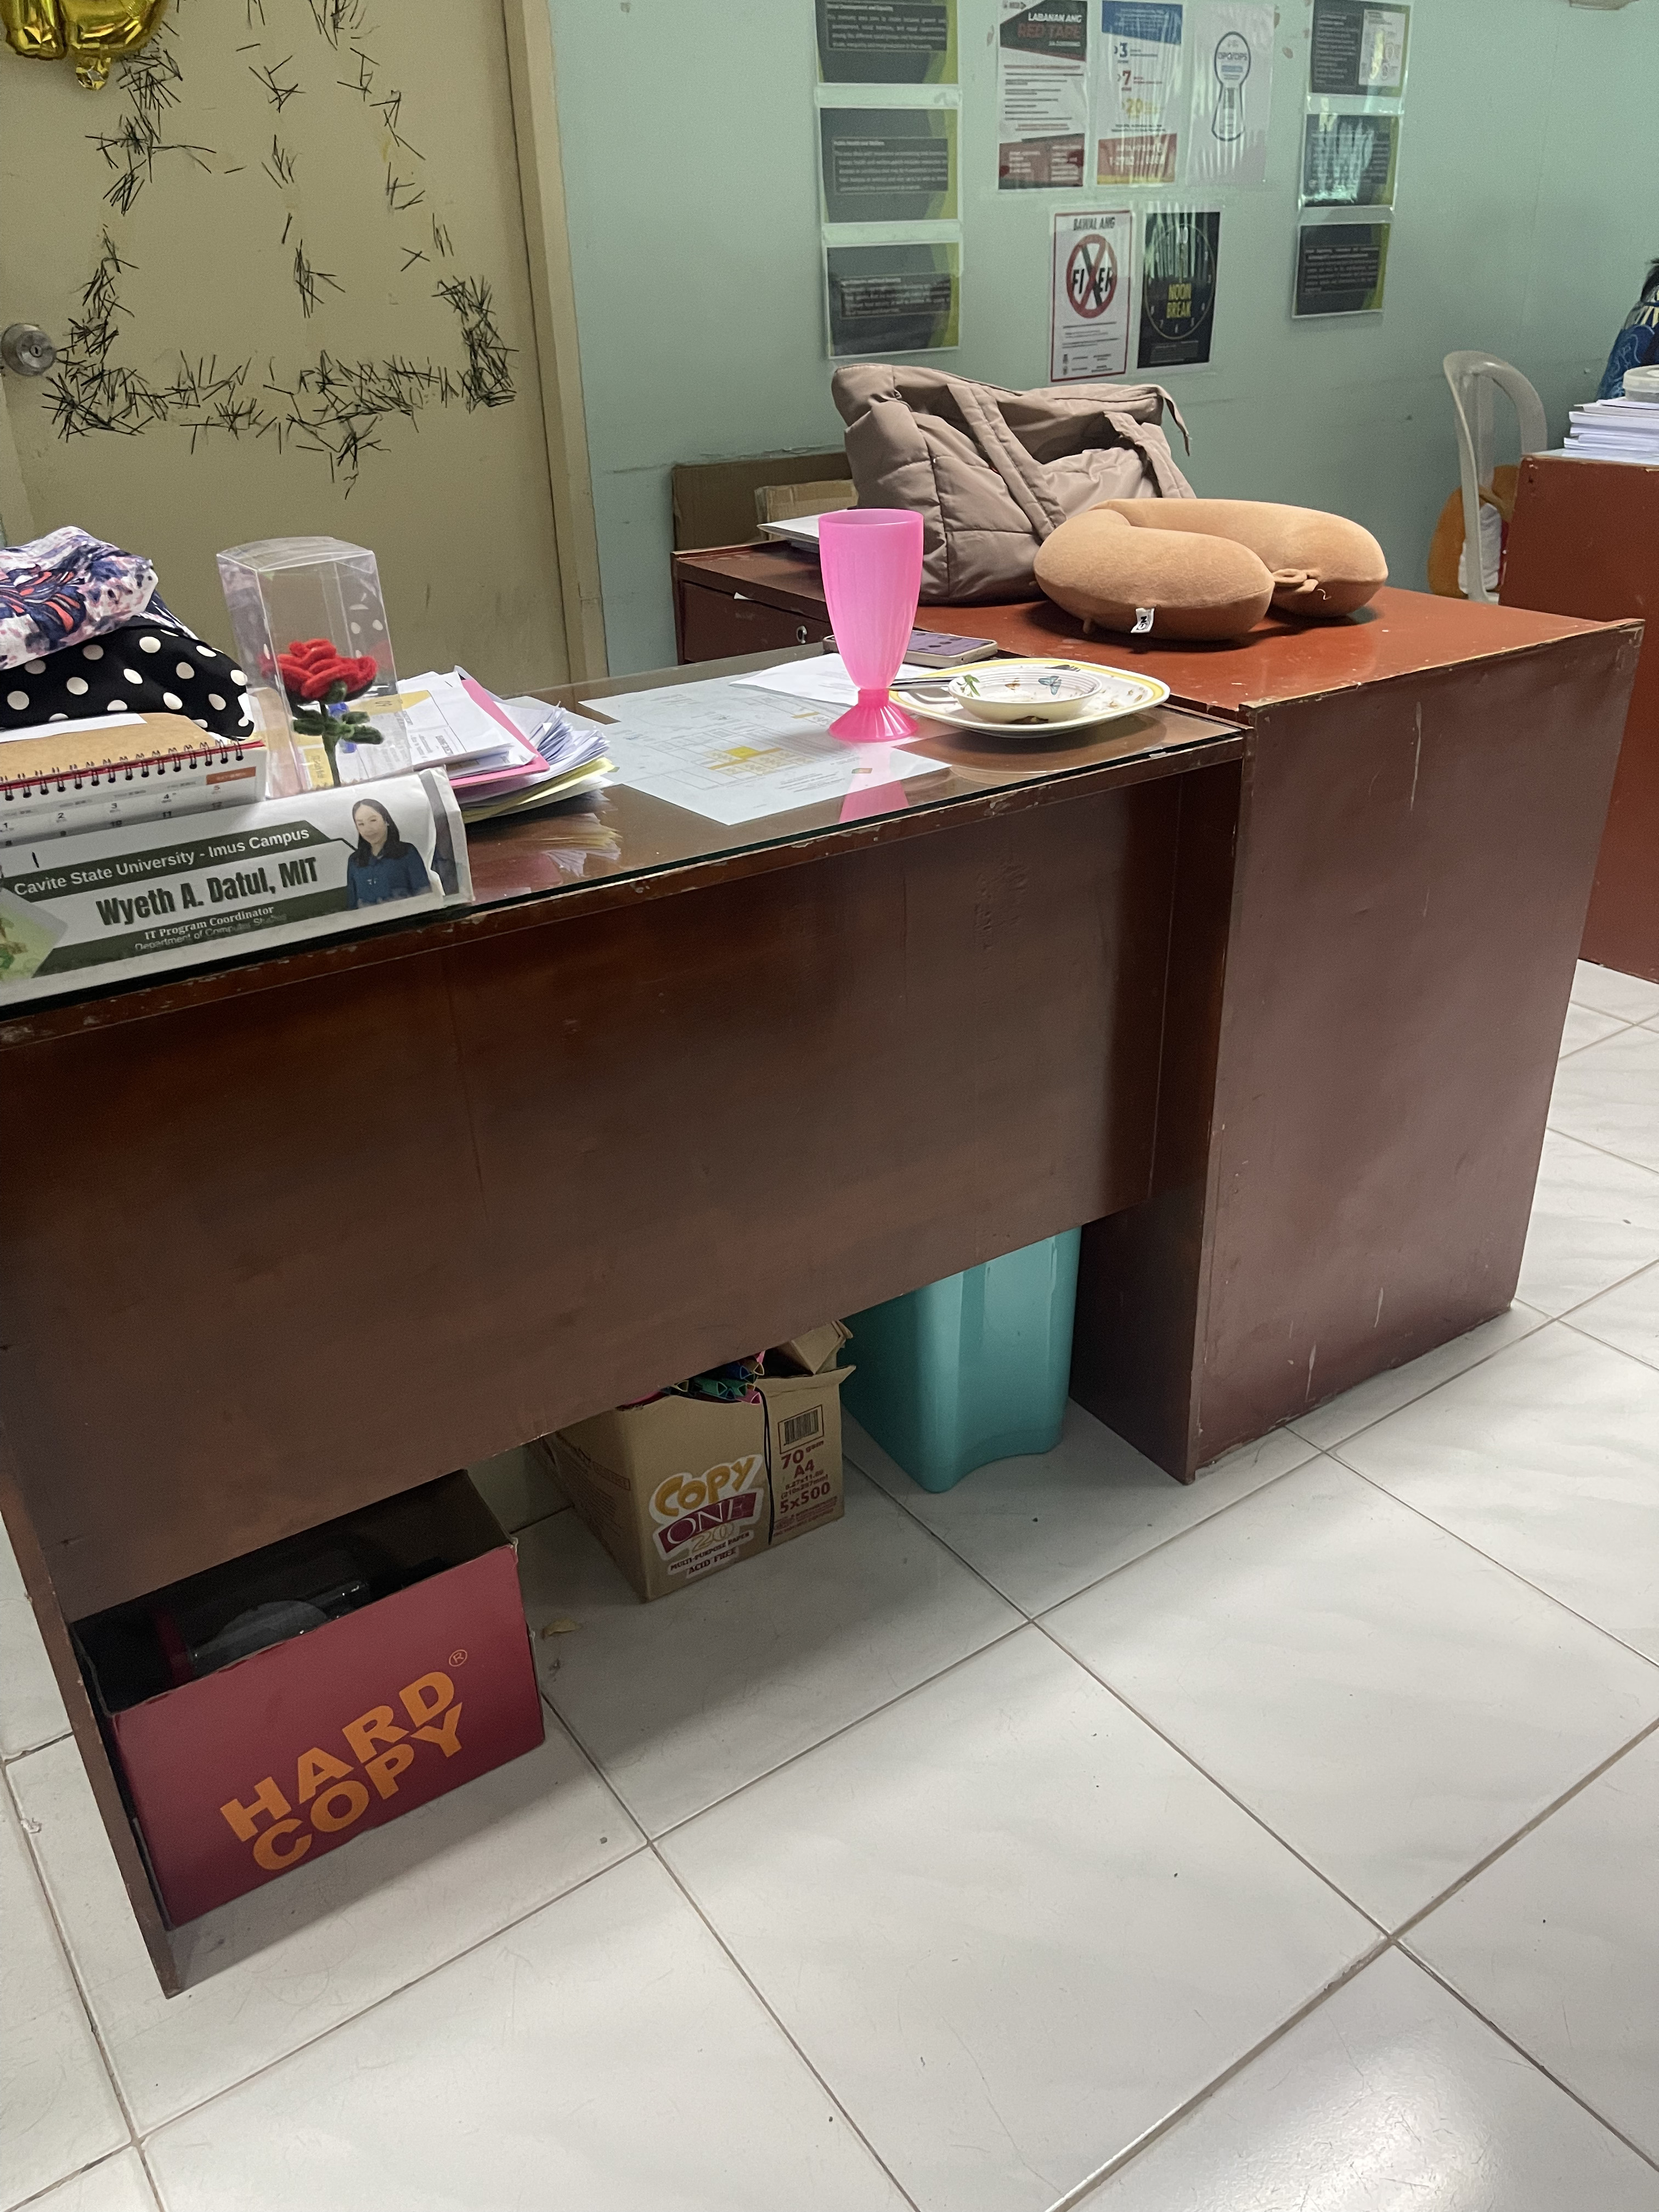table2: (0, 596, 1647, 2017)
